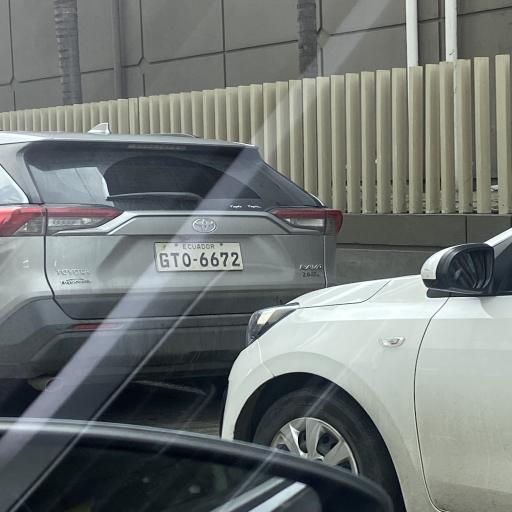license_plate: (155, 242, 243, 272)
